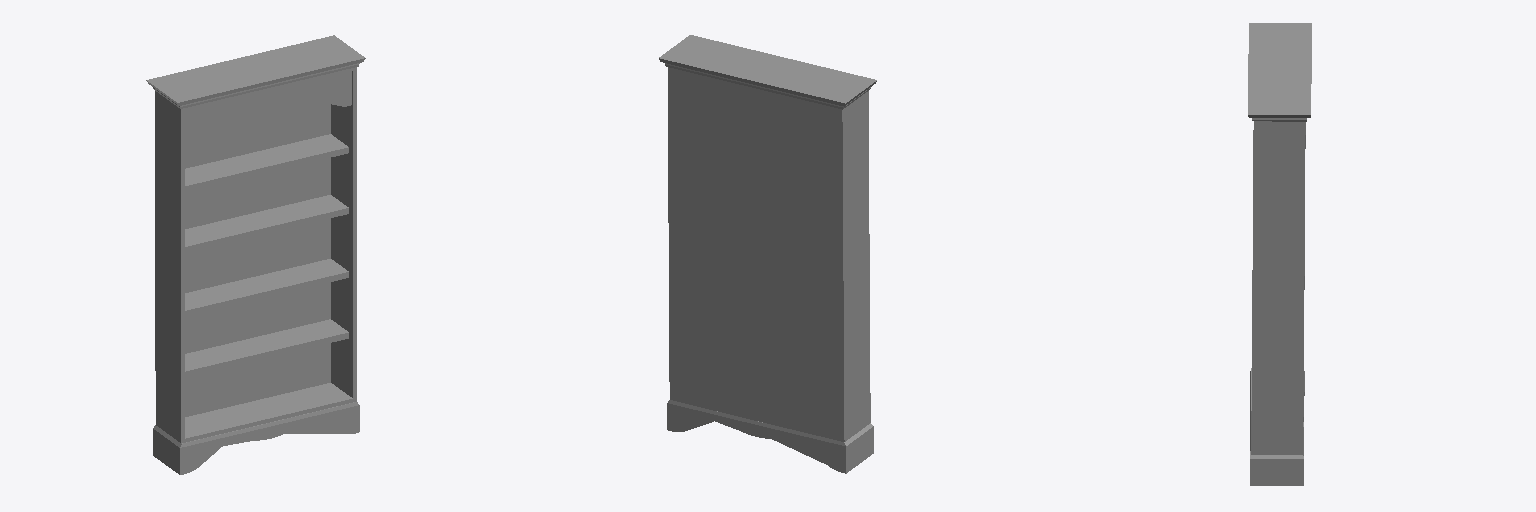
File: bookshelf.obj
3 views of the same model, side by side, from view 1: azimuth 30°, elevation 25°; view 2: azimuth 150°, elevation 25°; view 3: azimuth 270°, elevation 25° (orthographic).
Visible parts, largest first — view 1: libreria_Cubo, libreria_Simmetria, libreria_Estrusione_NURBS, libreria_Cubo1, libreria_Cubo2, libreria_Cubo4, libreria_Cubo3; view 2: libreria_Cubo, libreria_Simmetria; view 3: libreria_Cubo, libreria_Simmetria.
Part boxes in pixels (x1,y1,x2,y2): libreria_Cubo: (146, 35, 365, 443); libreria_Simmetria: (153, 402, 359, 474); libreria_Estrusione_NURBS: (185, 72, 351, 144); libreria_Cubo1: (185, 319, 348, 377); libreria_Cubo2: (185, 259, 348, 316); libreria_Cubo4: (185, 195, 348, 252); libreria_Cubo3: (185, 134, 348, 191); libreria_Cubo: (659, 35, 876, 441); libreria_Simmetria: (667, 400, 873, 473); libreria_Cubo: (1248, 23, 1311, 454); libreria_Simmetria: (1250, 368, 1304, 485).
Bounding box in the file's own units: 12.21 × 23.26 × 3.6.